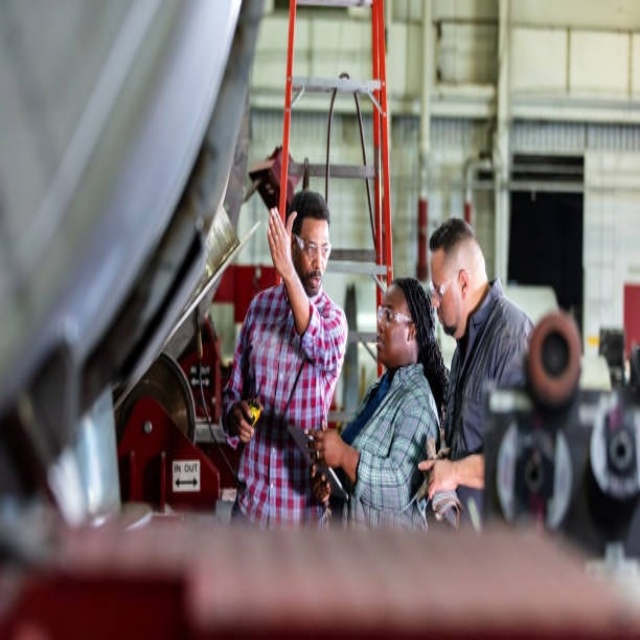Gafas: (429, 269, 466, 303), (294, 235, 332, 260), (377, 307, 414, 327)
Sin_guantes: (416, 455, 463, 505), (312, 414, 343, 463), (228, 399, 260, 442), (309, 459, 332, 504)
Sin_mascara: (434, 299, 455, 330), (305, 268, 325, 292), (374, 330, 388, 362)
